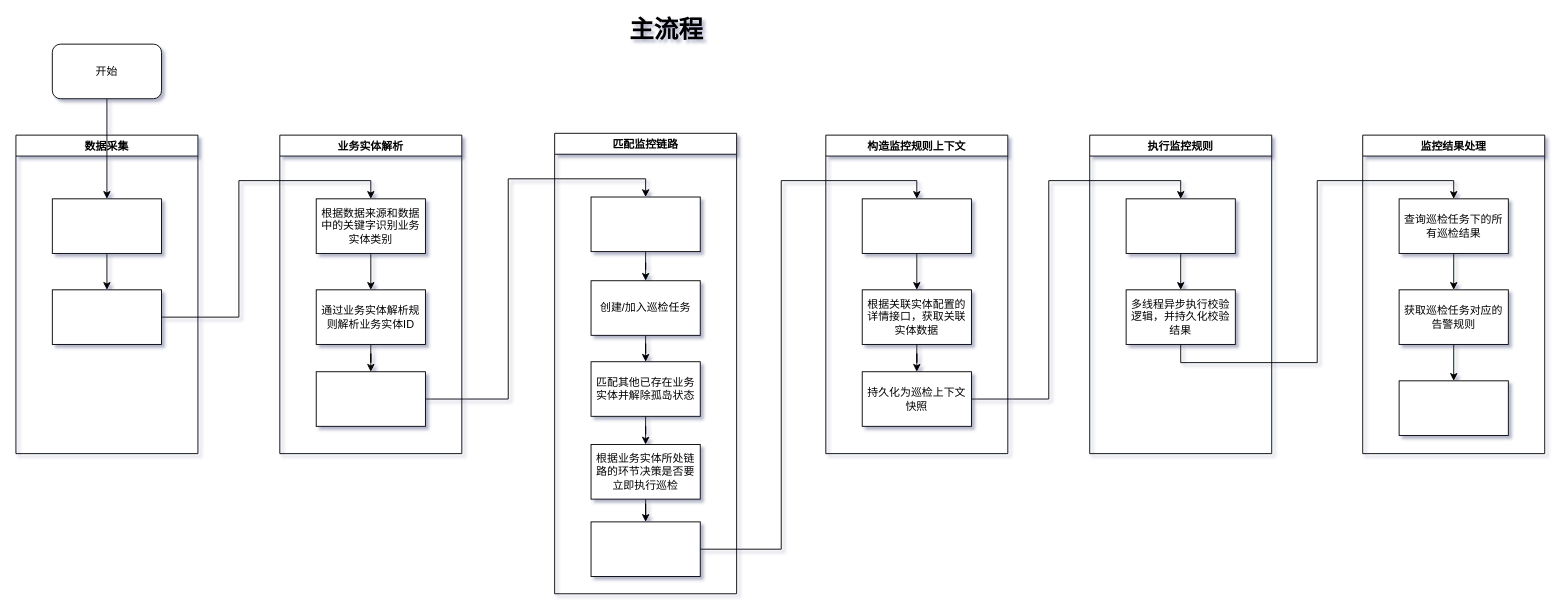
This 1566x615 diagram has some shape labels left out. Each missing label, with the centre of its shape:
"决策巡检方向 向上/向下 or 双向" goes at point 645,548.
"匹配到至少一条业务链路" goes at point 645,224.
"发送钉钉告警" goes at point 1453,407.
"持久化 （保证监控入口数据不丢失）" goes at point 106,316.
"接收流量、日志。bingLog" goes at point 106,225.
"根据匹配的链路和巡检方向获取所有关联实体列表" goes at point 916,225.
"获取所有匹配链路的校验规则集合" goes at point 1180,225.
"设置为孤岛状态并持久化" goes at point 370,398.
